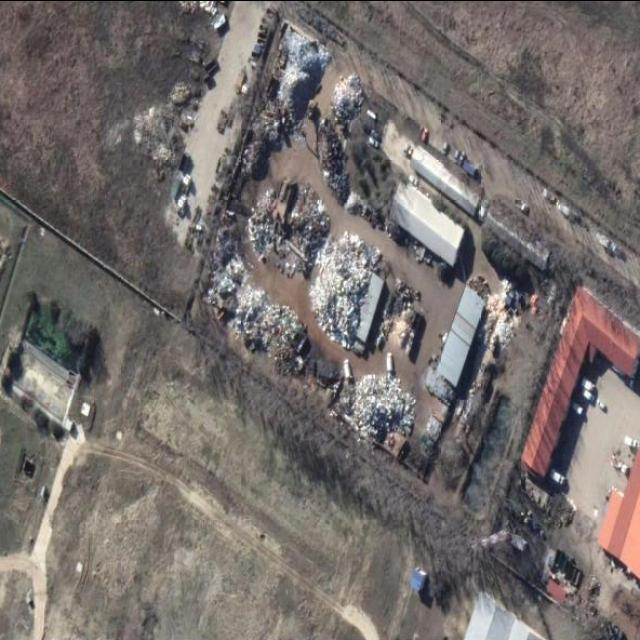dump_site: (305, 218, 380, 352), (258, 22, 330, 147), (307, 73, 365, 206), (272, 172, 335, 289), (344, 358, 418, 456), (229, 278, 301, 371), (201, 230, 249, 313), (242, 179, 284, 265), (382, 279, 425, 357), (239, 117, 286, 188), (474, 291, 518, 361)
